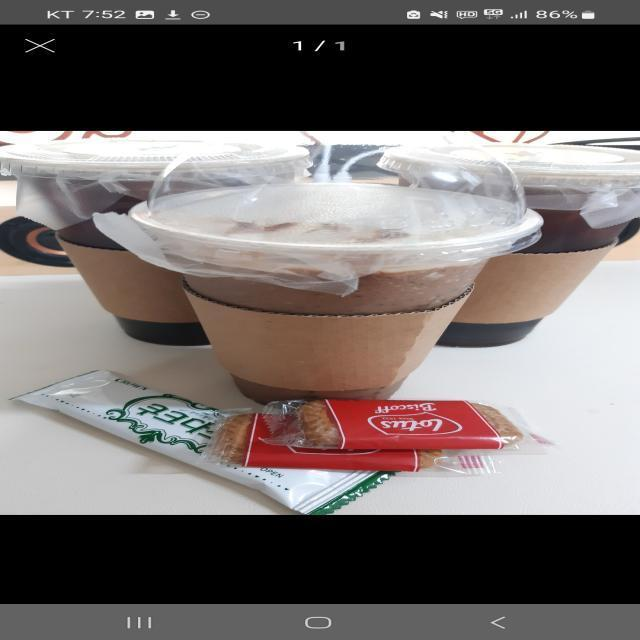cup: (125, 138, 547, 398)
